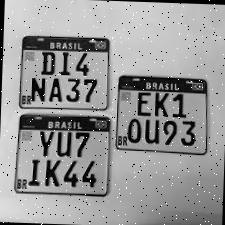placa_mercosul: (14, 114, 109, 195), (115, 74, 207, 154), (18, 35, 108, 110)
